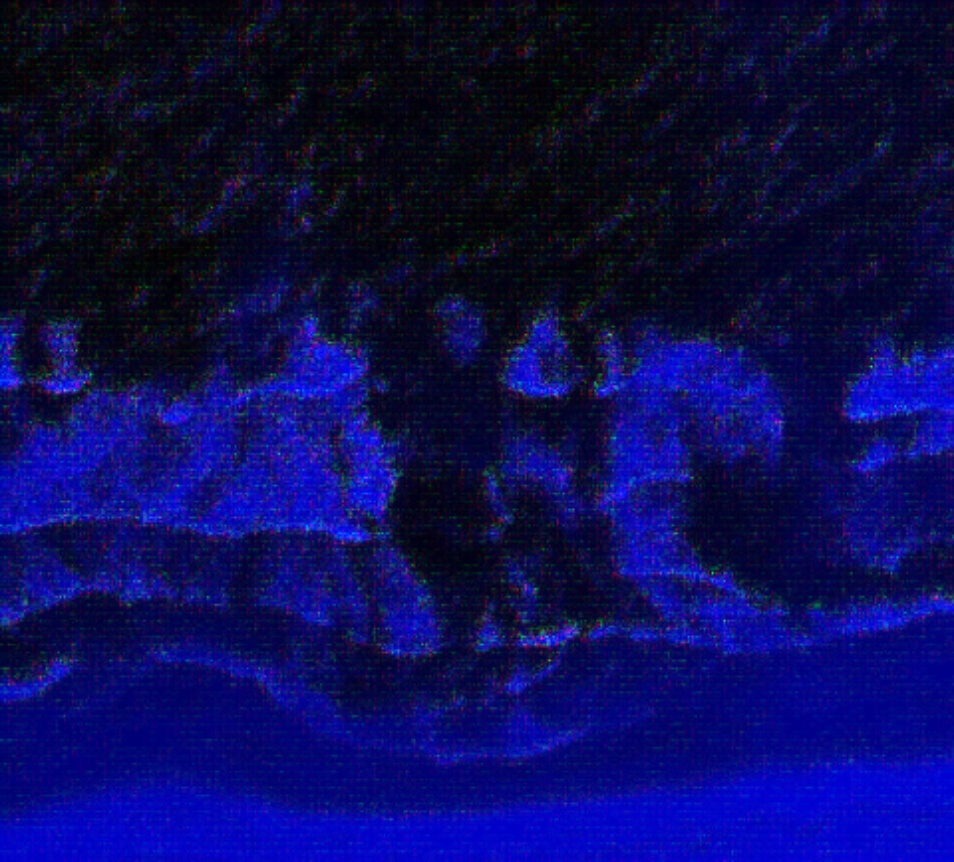rip_current: (298, 157, 666, 676)
